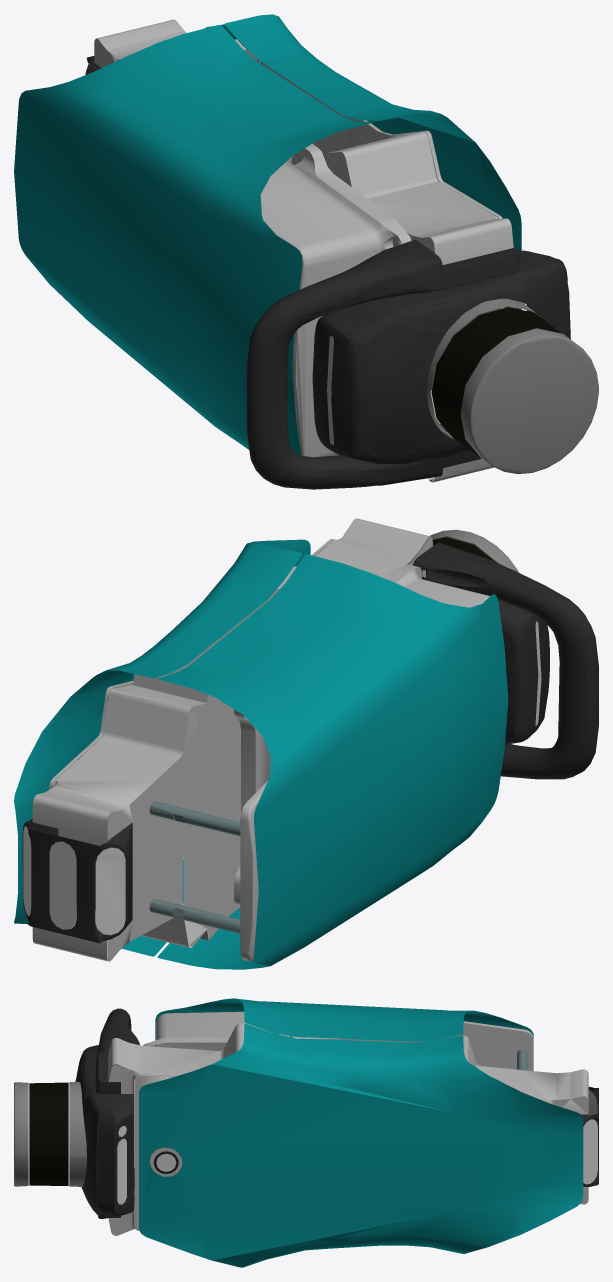
Rendered from torso.obj.
3 renders of one model, top to bottom at view 1: azimuth 30°, elevation 25°; view 2: azimuth 150°, elevation 25°; view 3: azimuth 270°, elevation 25°, orthographic. The views are drawn at different scales.
Visible parts, largest first — view 1: __TMPOBJ_____TMPMESH__.002; view 2: __TMPOBJ_____TMPMESH__.002; view 3: __TMPOBJ_____TMPMESH__.002.
Part boxes in pixels (x1,y1,x2,y2): __TMPOBJ_____TMPMESH__.002: [14, 14, 598, 489]; __TMPOBJ_____TMPMESH__.002: [14, 518, 598, 969]; __TMPOBJ_____TMPMESH__.002: [14, 998, 598, 1267].
Bounding box in the file's own units: 0.2461 × 0.2422 × 0.5638.
